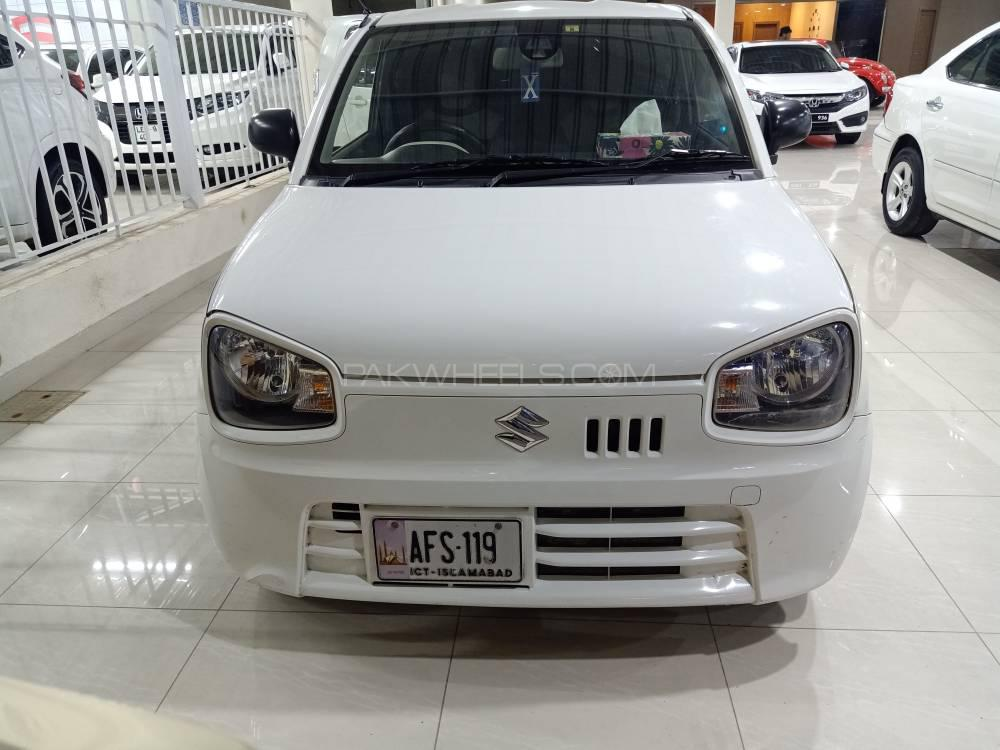license plate: (372, 515, 528, 583)
